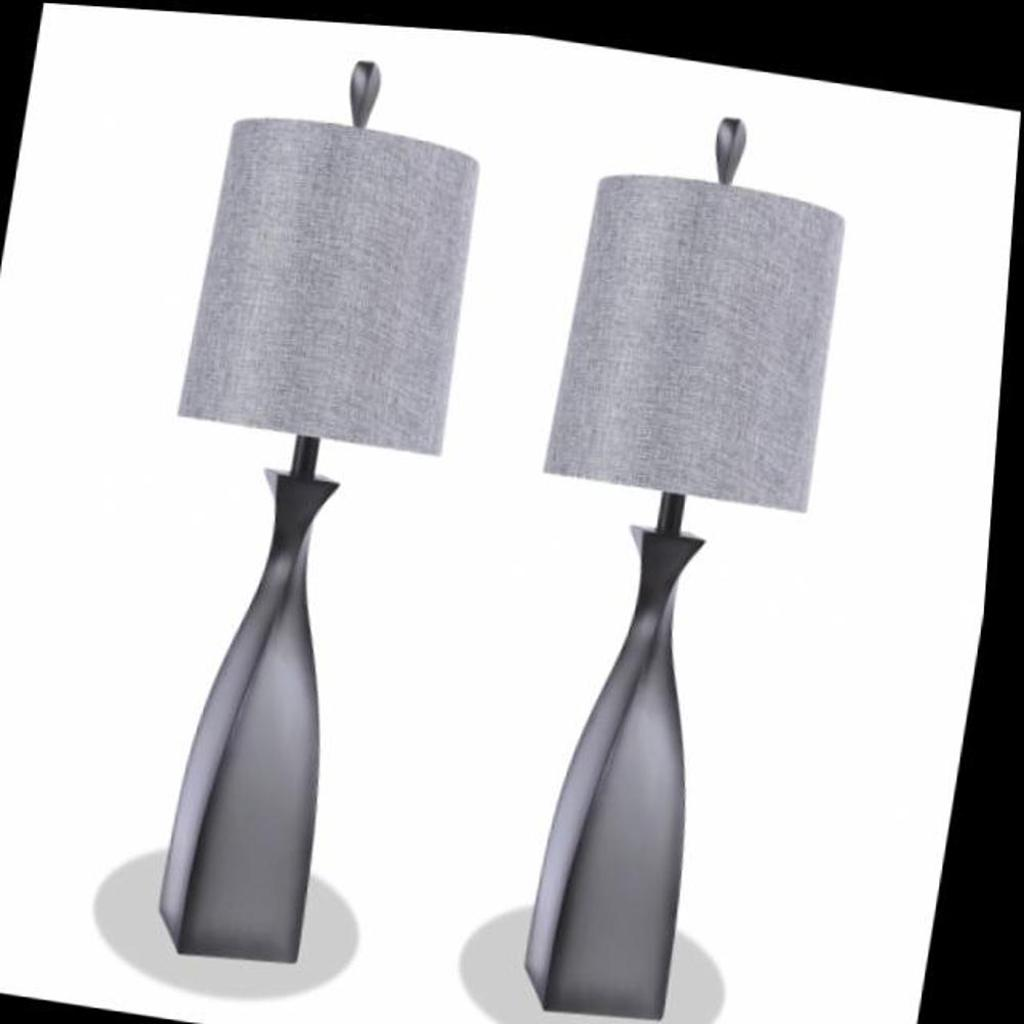shelf: (68, 7, 538, 1004), (447, 45, 925, 1024)
